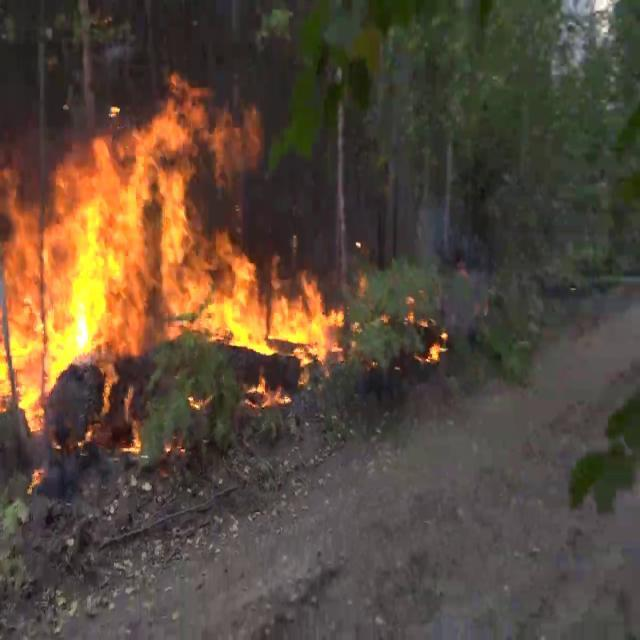Fire: (0, 73, 346, 440)
